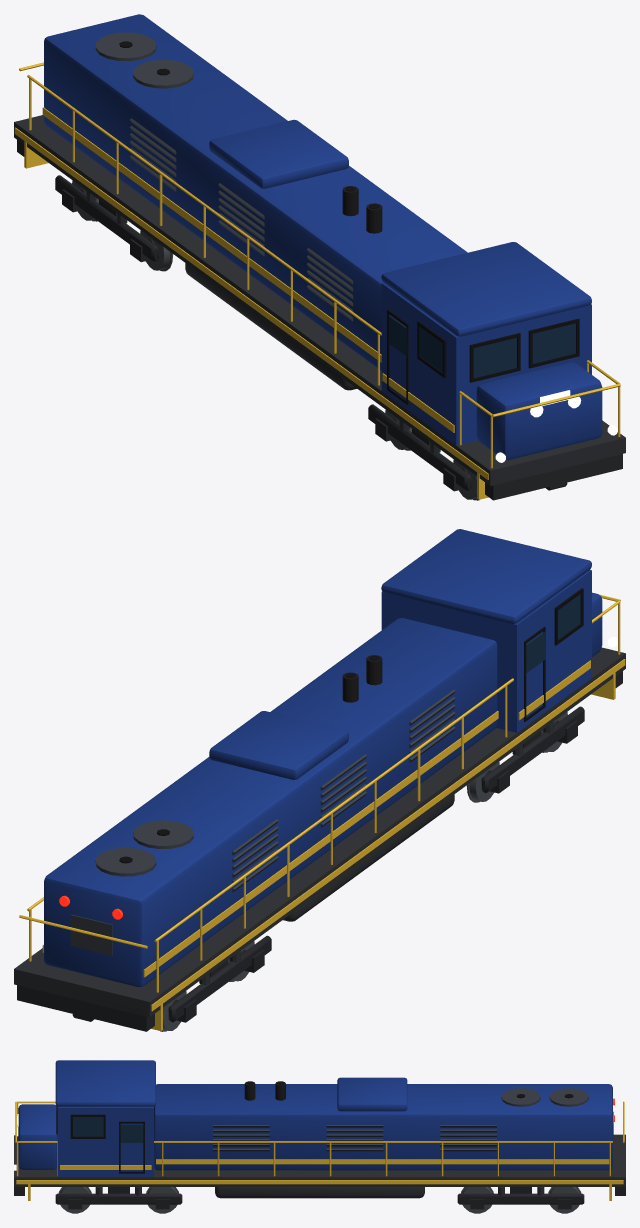
The model's file is train_freight_loco.glb.
The picture shows the model from 3 angles, top to bottom: view 1: azimuth 30°, elevation 25°; view 2: azimuth 150°, elevation 25°; view 3: azimuth 270°, elevation 25°; orthographic projection. The views are drawn at different scales.
Visible parts, largest first — view 1: Loco_Body, Loco_Frame, Loco_Handrails, Loco_Bogie_Rear, Loco_Bogie_Front; view 2: Loco_Body, Loco_Frame, Loco_Handrails, Loco_Bogie_Front, Loco_Bogie_Rear; view 3: Loco_Body, Loco_Frame, Loco_Bogie_Front, Loco_Bogie_Rear, Loco_Handrails.
Part boxes in pixels (x1,y1,x2,y2): Loco_Body: (42, 14, 617, 462); Loco_Frame: (14, 115, 625, 500); Loco_Handrails: (19, 62, 620, 468); Loco_Bogie_Rear: (55, 175, 173, 271); Loco_Bogie_Front: (368, 404, 479, 500); Loco_Body: (42, 529, 617, 986); Loco_Frame: (14, 647, 625, 1031); Loco_Handrails: (19, 594, 620, 992); Loco_Bogie_Front: (466, 706, 584, 802); Loco_Bogie_Rear: (160, 935, 271, 1031); Loco_Body: (14, 1060, 614, 1177); Loco_Frame: (14, 1134, 625, 1200); Loco_Bogie_Front: (55, 1187, 182, 1213); Loco_Bogie_Rear: (457, 1187, 584, 1213); Loco_Handrails: (15, 1101, 624, 1176).
Size of the model in its own units: 2.36 by 3.03 by 14.
